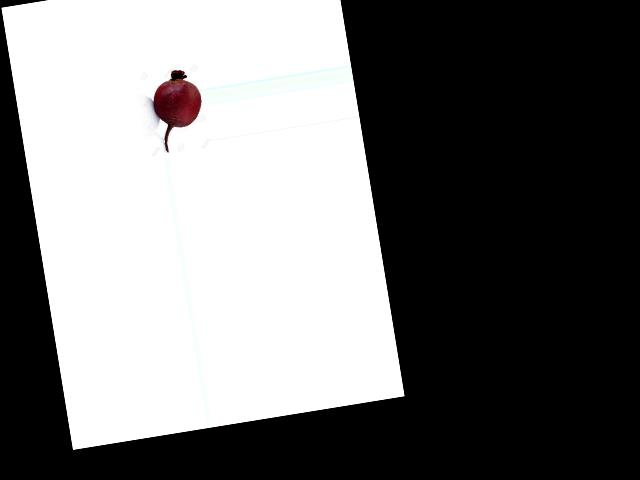beet: (148, 67, 208, 153)
